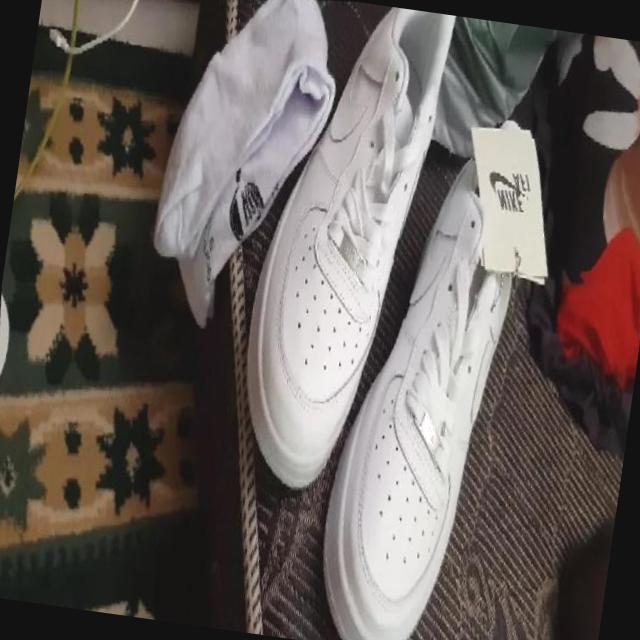nike_fake_airforce: (273, 122, 581, 640), (197, 0, 500, 511)
